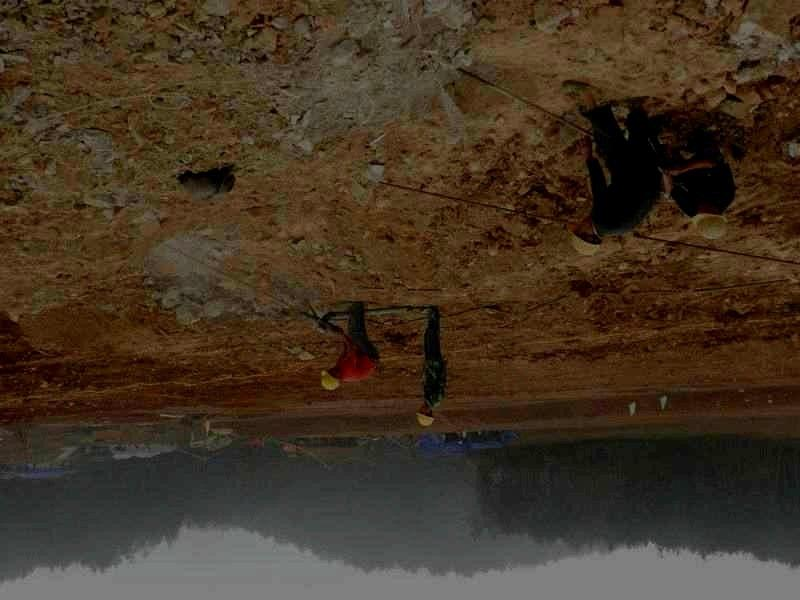helmet: (689, 201, 729, 239), (570, 214, 603, 256), (319, 365, 342, 391), (415, 405, 435, 427)
